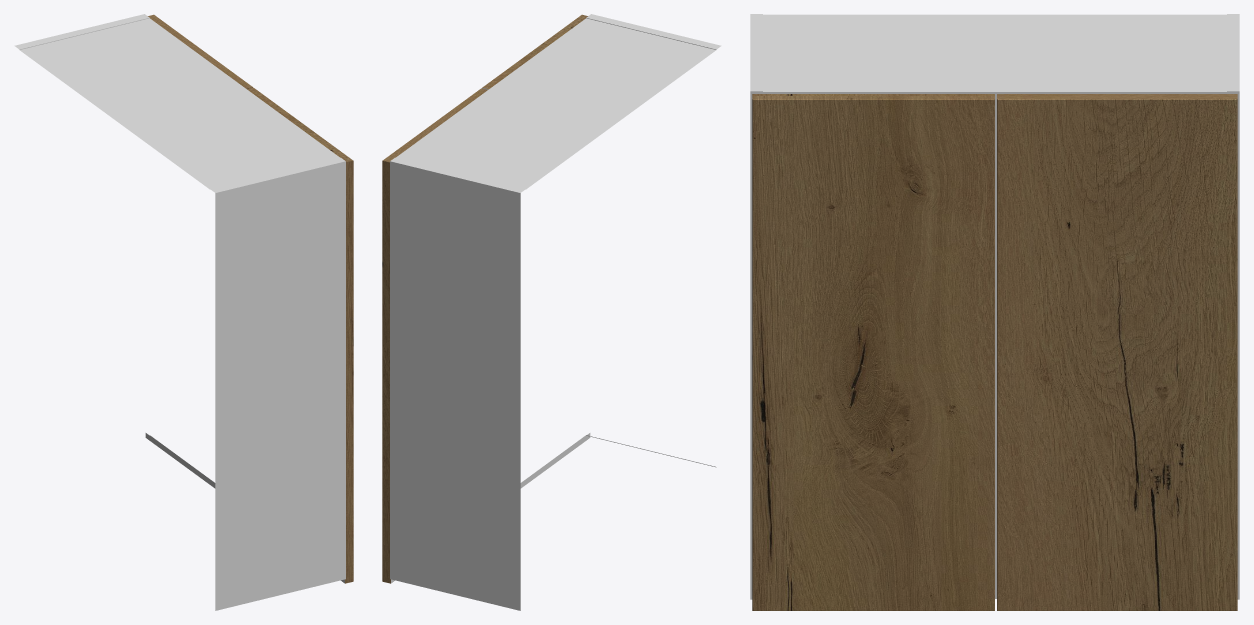
Rendered from gornji_70cm_bez_rucica.glb.
The picture shows the model from 3 angles, left to right: view 1: azimuth 30°, elevation 25°; view 2: azimuth 150°, elevation 25°; view 3: azimuth 270°, elevation 25°; orthographic projection. The views are drawn at different scales.
Parts seen in each view (by area): view 1: Model; view 2: Model; view 3: Model.
Boxes of the visible parts, <box> form: Model: <box>14,14,353,610</box>; Model: <box>382,14,721,610</box>; Model: <box>750,14,1239,610</box>.
Bounding box in the file's own units: 280 × 812 × 700.
Materials: 3 (1 with a texture image).
